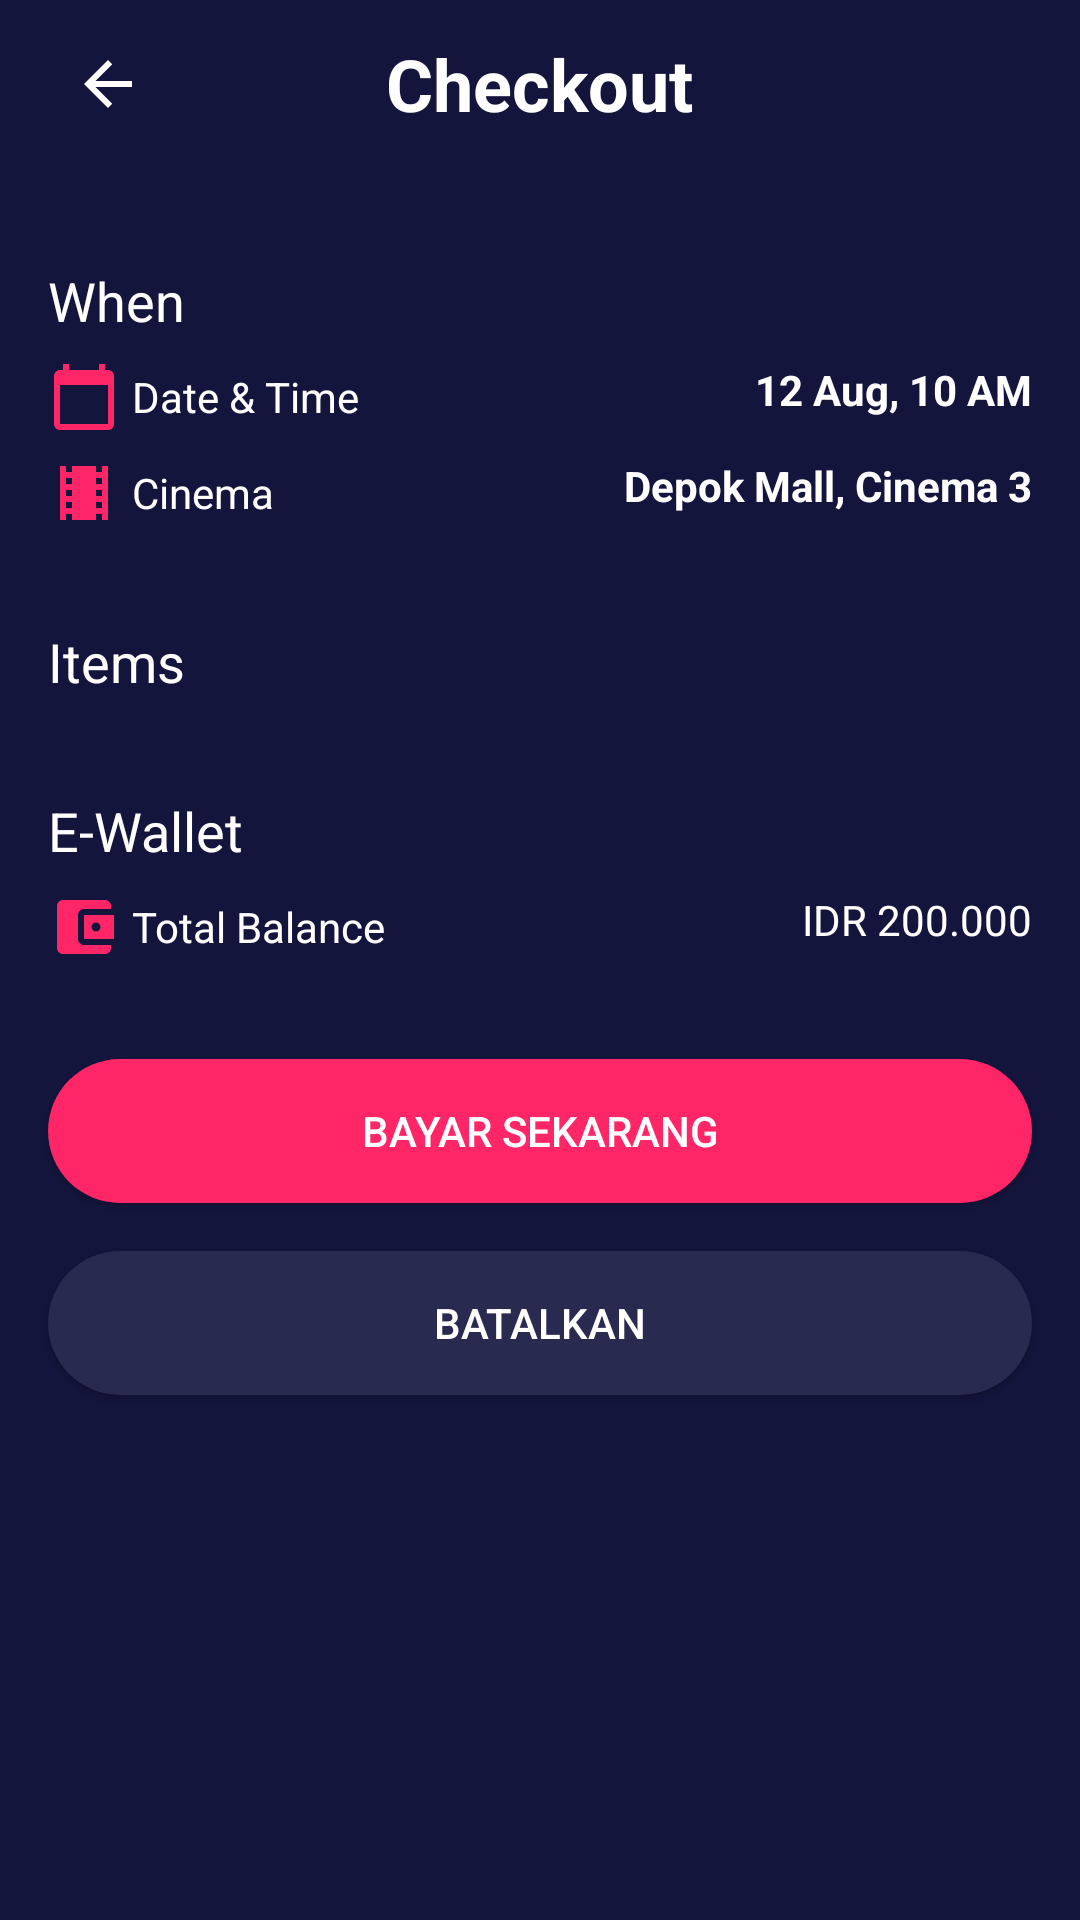

Icons on this 1080 x 1920 Android screen, each with the point to tap as (x=x, y=y):
arrow left: (x=108, y=84)
